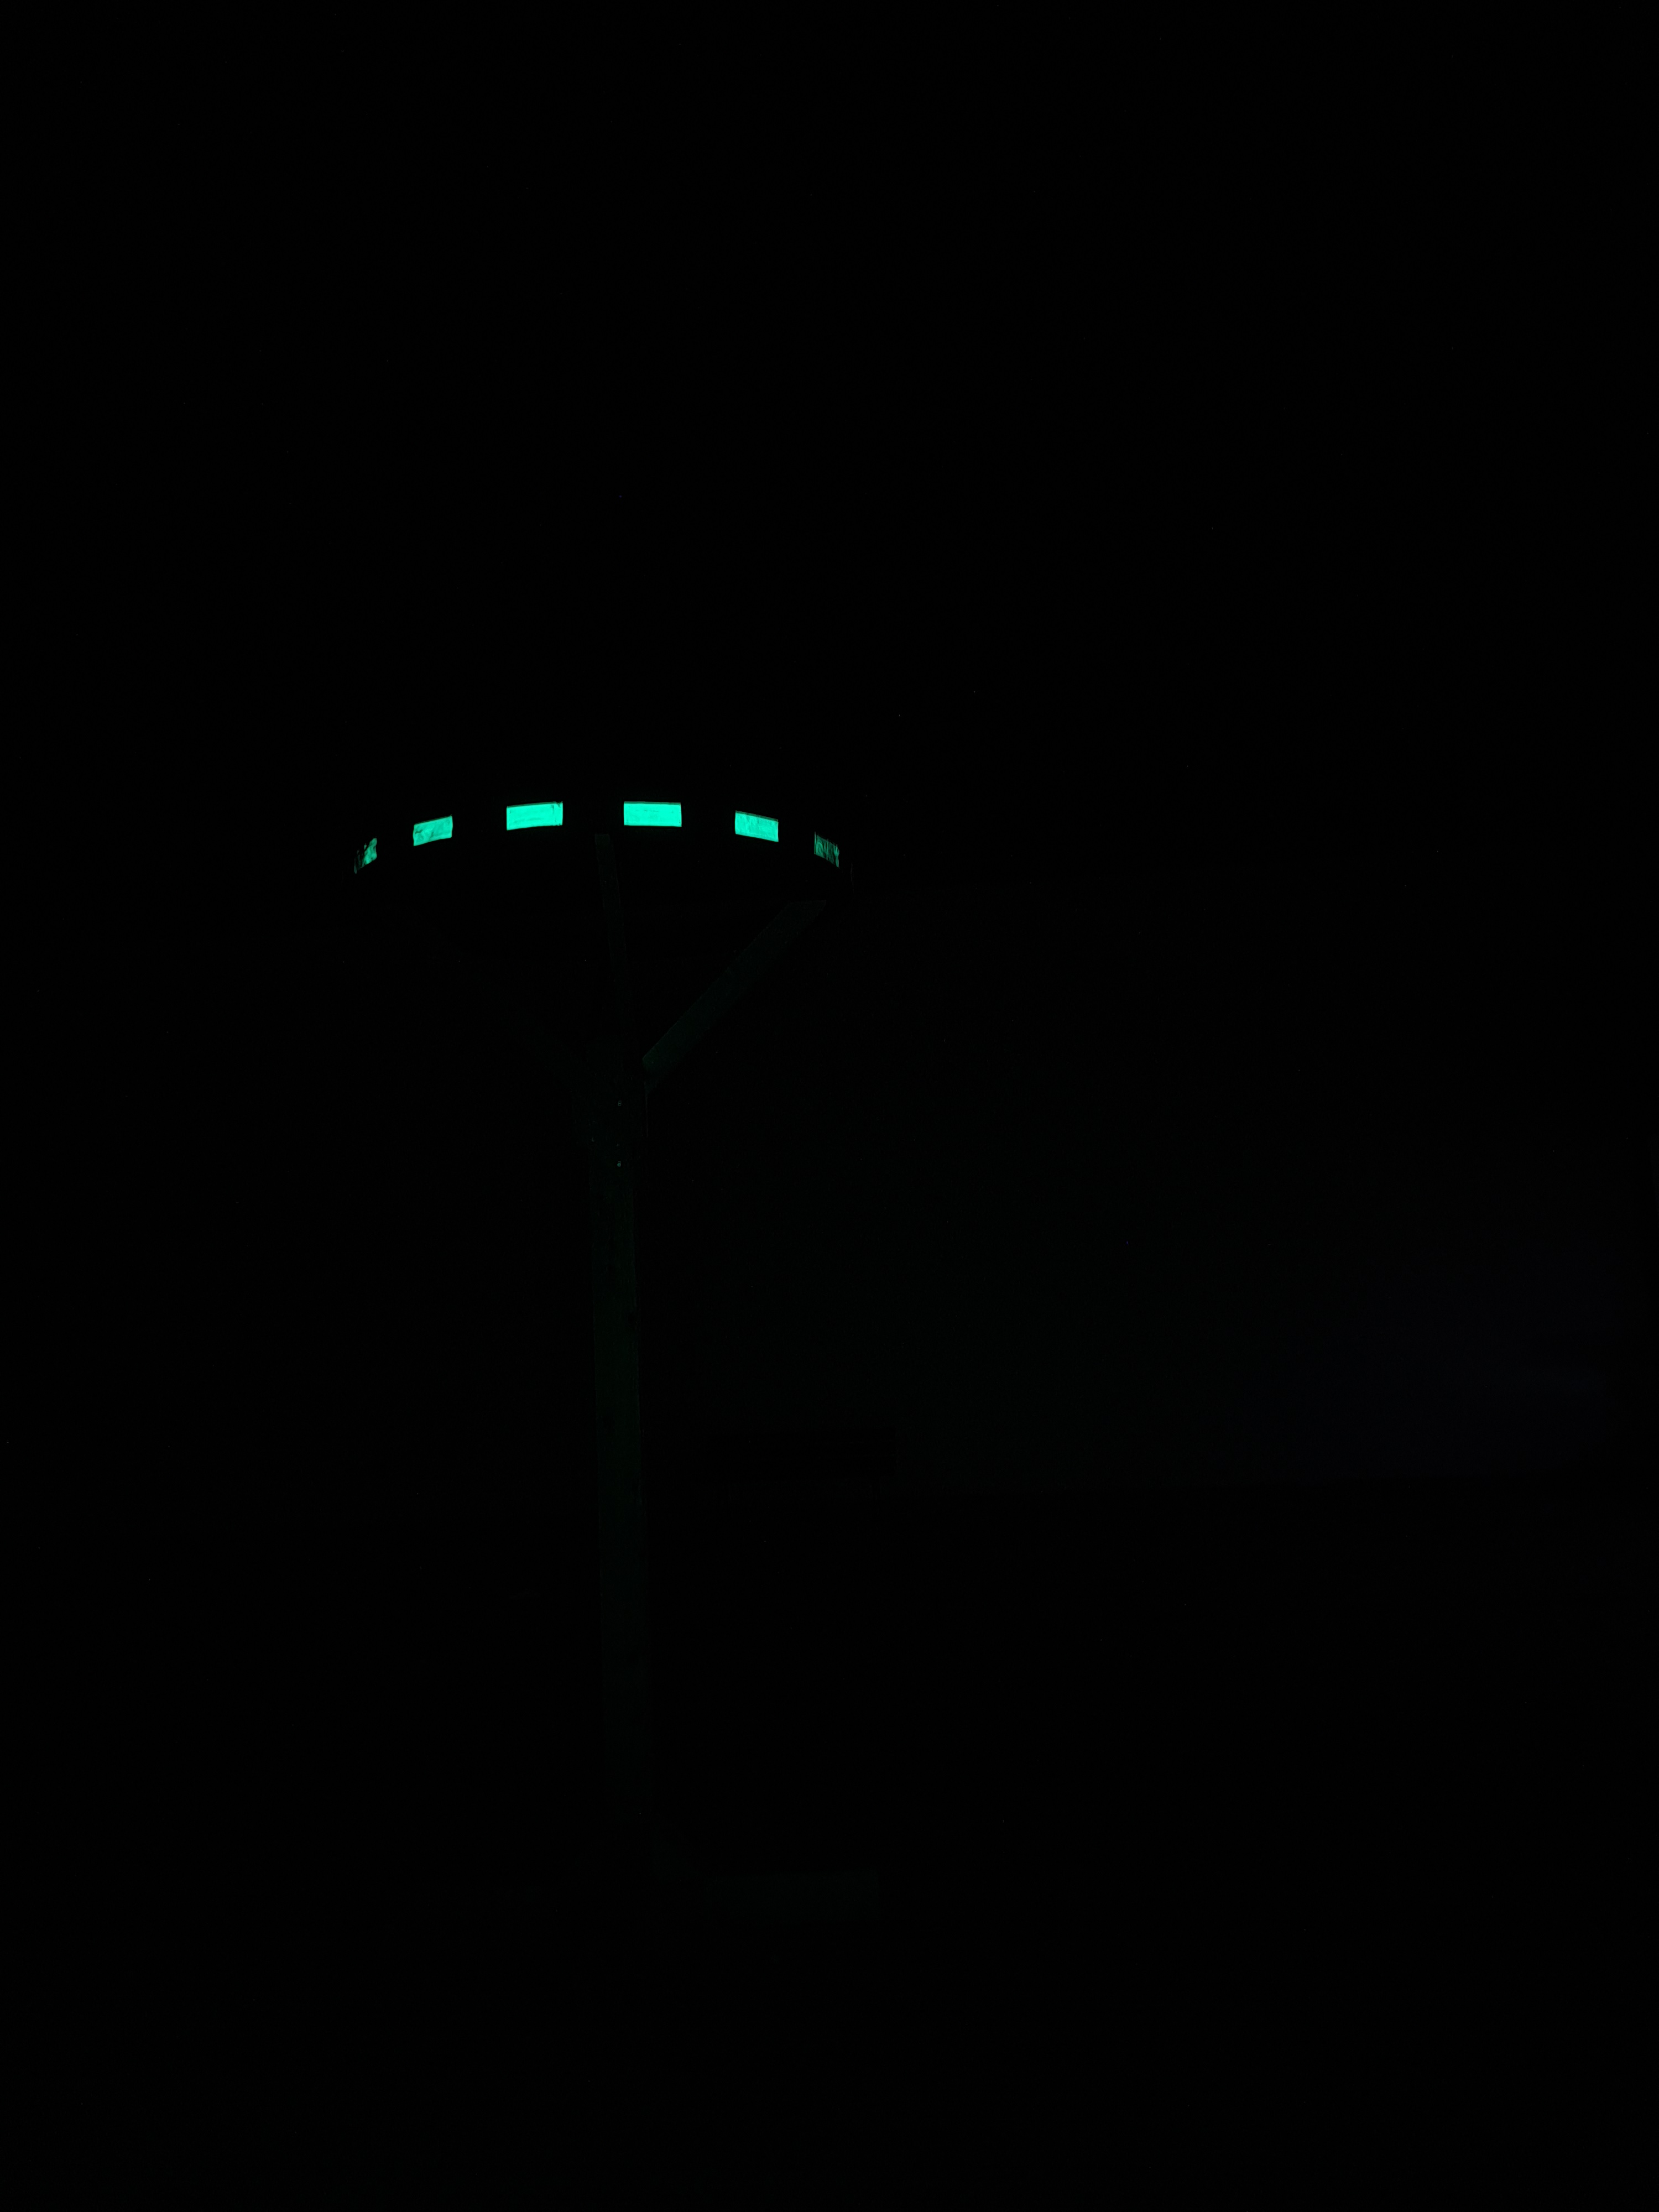hoop: (347, 792, 852, 883)
